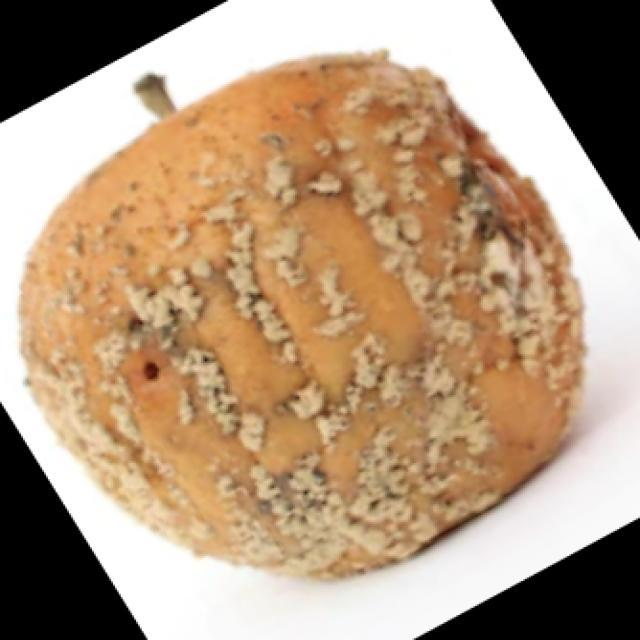Rotten: (35, 65, 575, 578)
